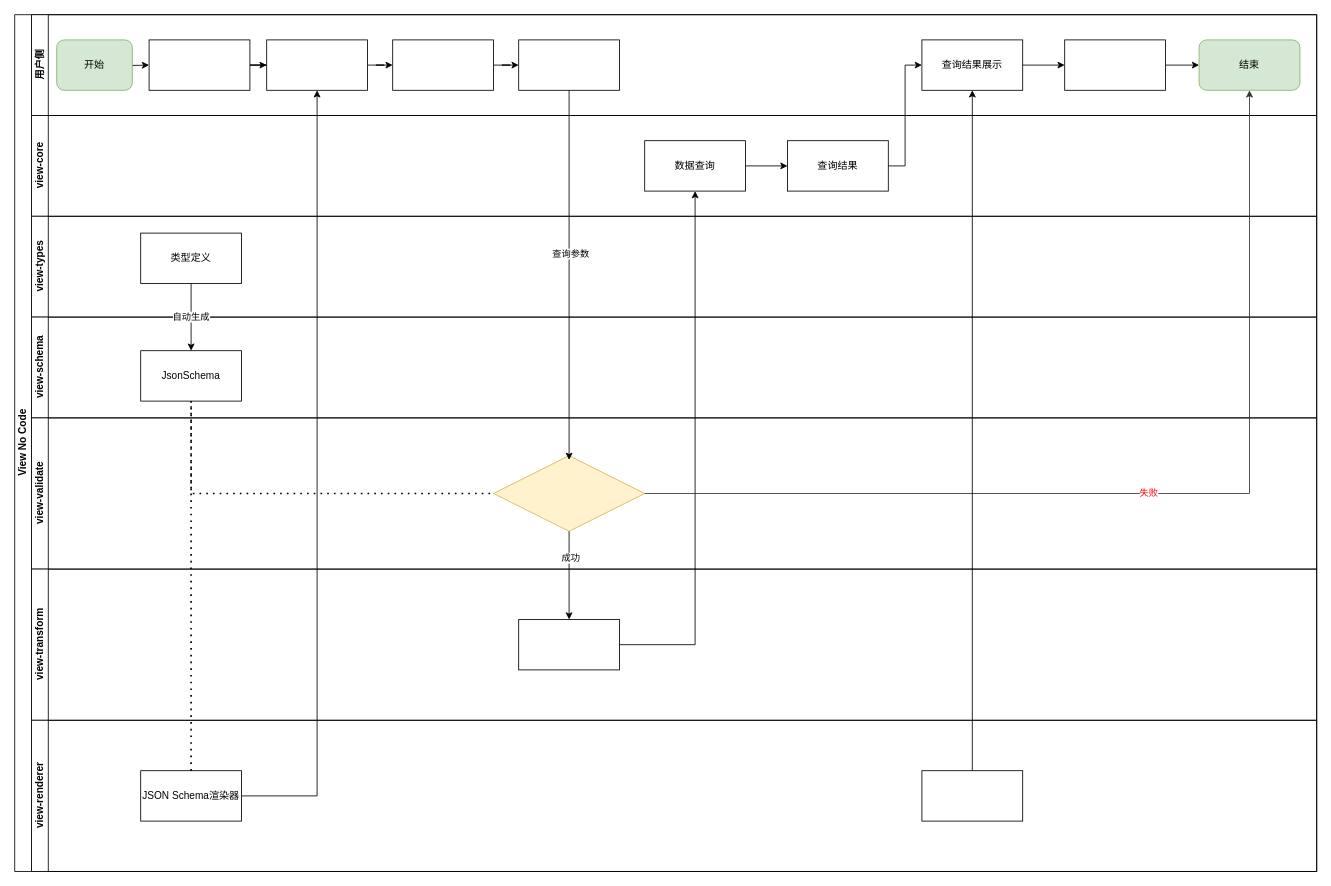
This 1331x886 diagram has some shape labels left out. Here are the shapes that lost their labels. From the top down, the centre of each, then its label:
[199,64]: 选择数据源
[317,64]: 配置器
[443,64]: 参数配置
[569,64]: 查询验证
[1115,64]: 保存View
[569,493]: 校验参数
[569,644]: 查询数据转换
[972,795]: 查询结果渲染器
